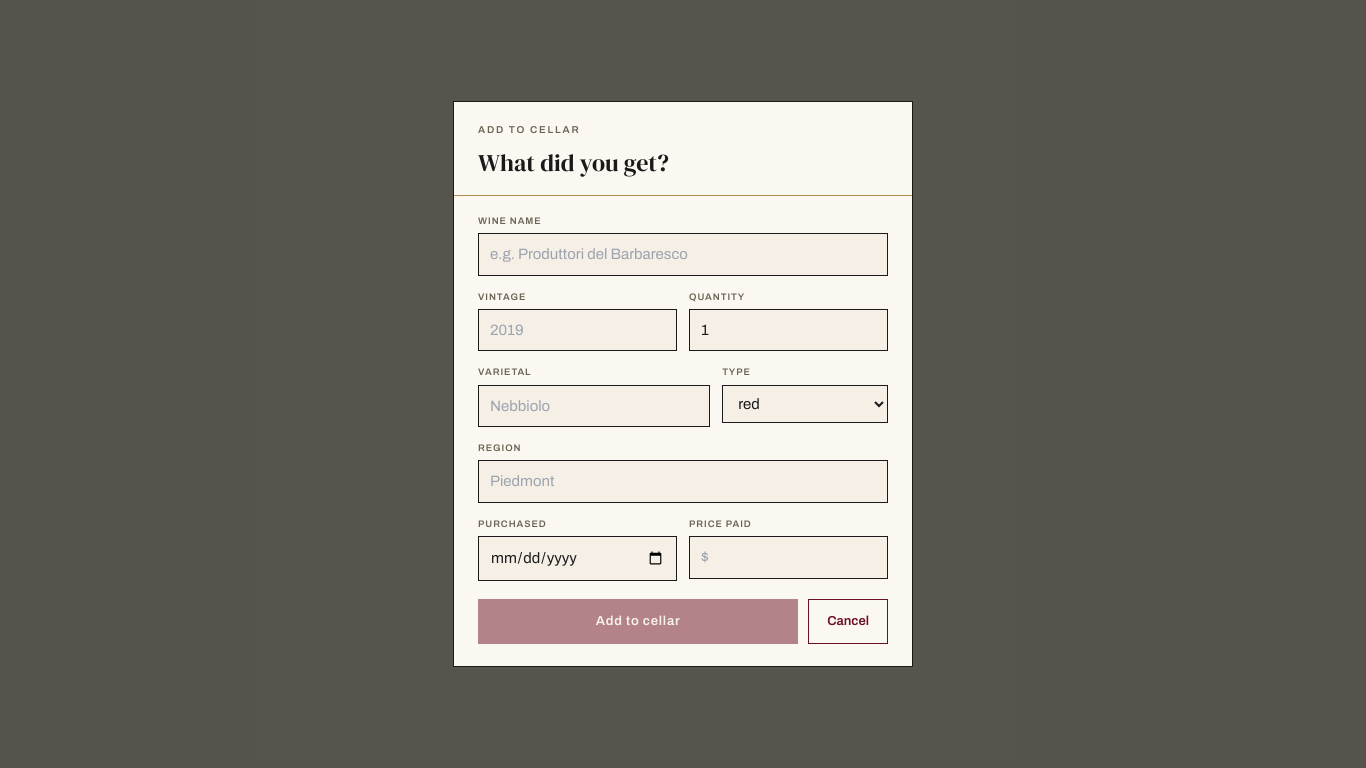
Scenario: shows a live drinking-window preview from varietal + vintage
This screenshot has width=1366, height=768.
Type "X" into the field labelled "Wine name".
click(683, 254); type("X")  # box [478, 233, 888, 276]
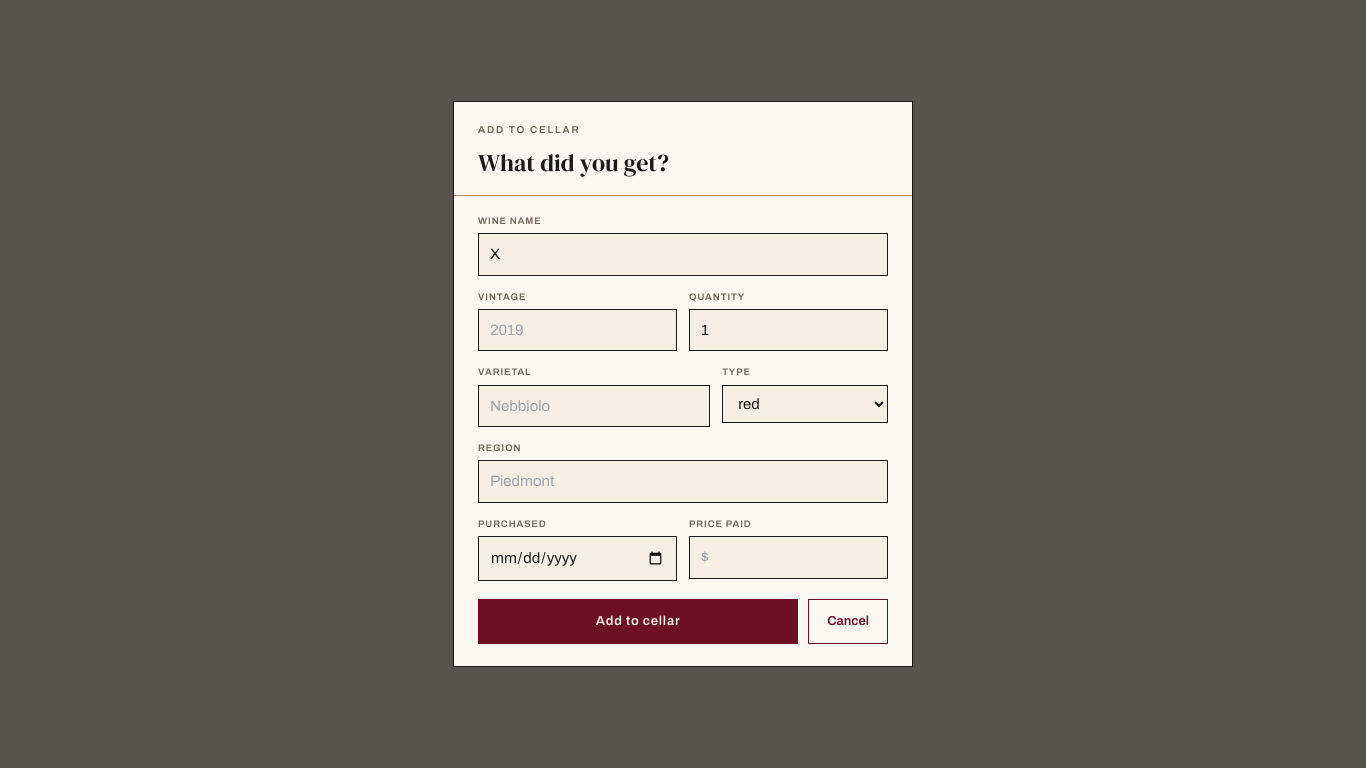
Type "Cabernet Sauvignon" into the field labelled "Varietal".
click(594, 406); type("Cabernet Sauvignon")  # box [478, 385, 710, 427]
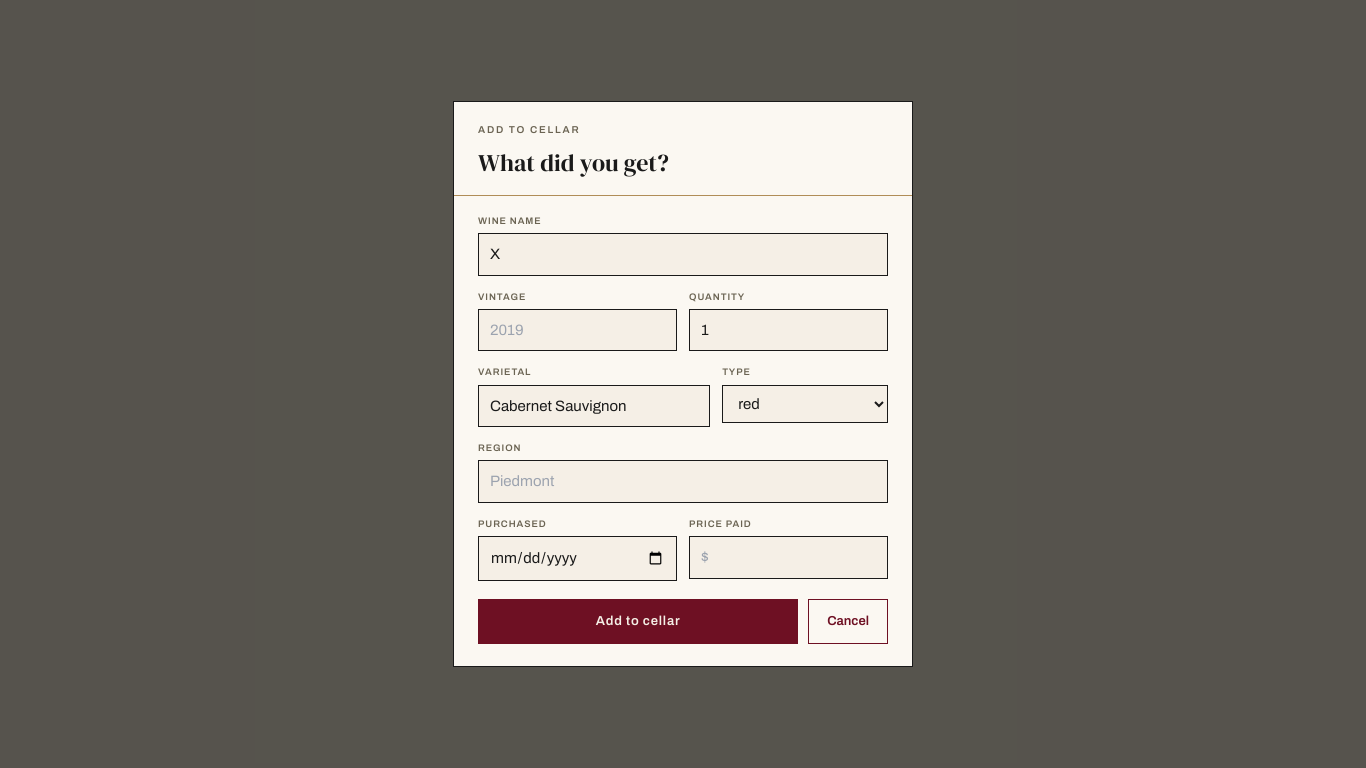
Type "2015" into the number field labelled "Vintage".
click(578, 330); type("2015")  # box [478, 309, 677, 351]
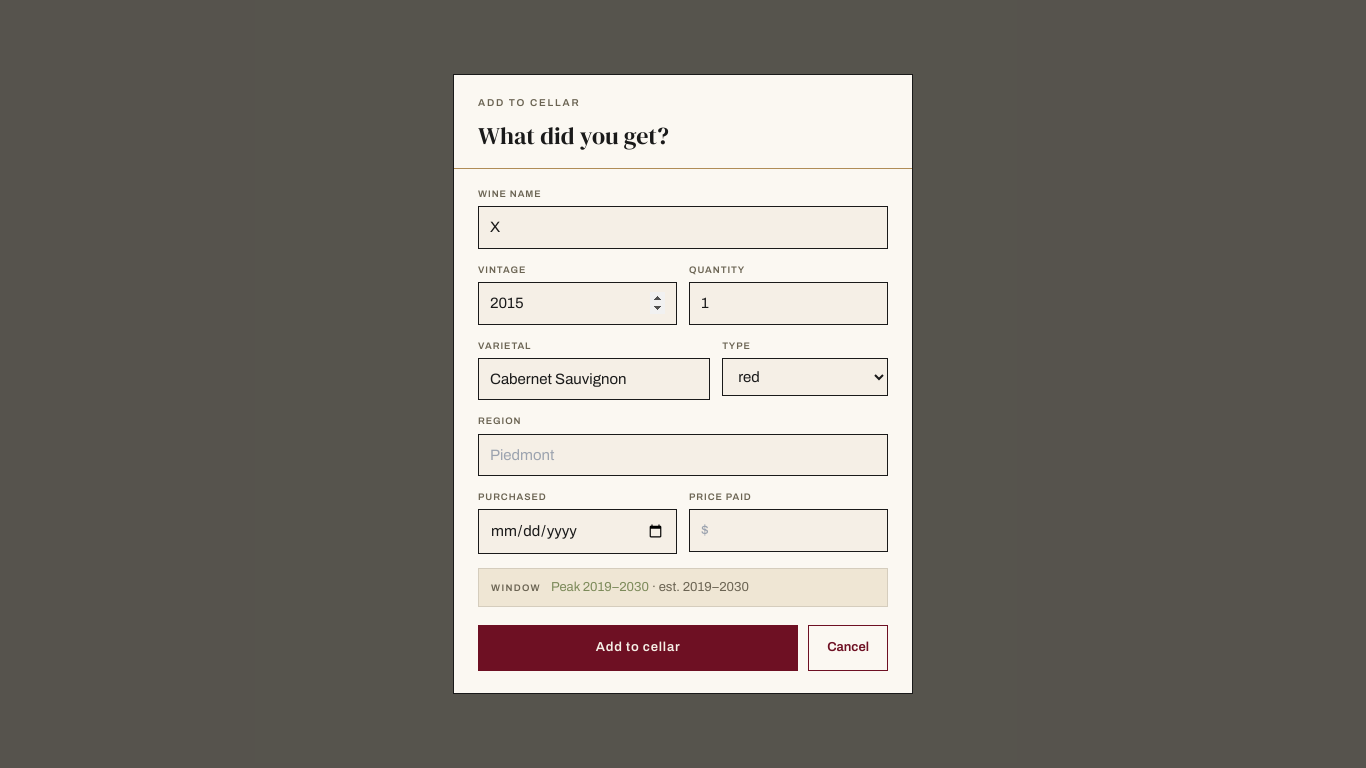
expect the text "Peak 2019–2030 · est. 2019–2030" is shown: met, box [551, 578, 749, 597]
expect the text "· est. 2019–2030" is shown: met, box [652, 580, 749, 594]
